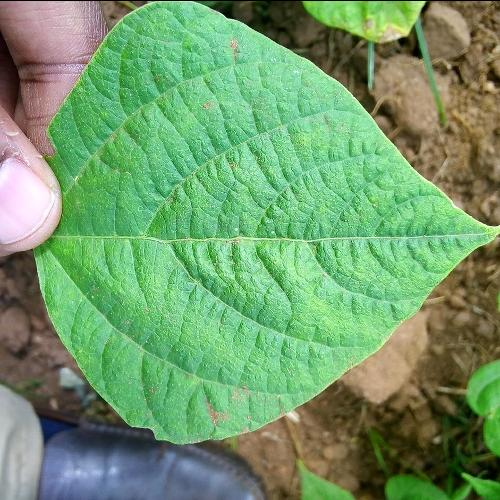sehat: (75, 56, 398, 447)
